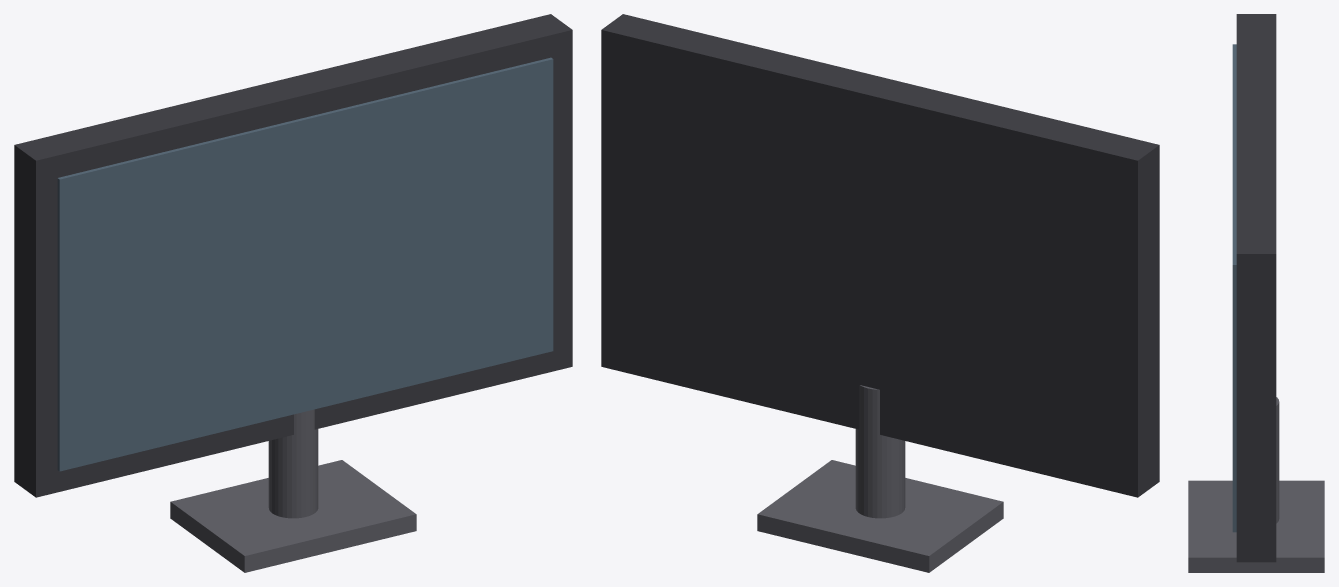
Rendered from monitor.glb.
The picture shows the model from 3 angles, left to right: view 1: azimuth 30°, elevation 25°; view 2: azimuth 150°, elevation 25°; view 3: azimuth 270°, elevation 25°; orthographic projection. The views are drawn at different scales.
Parts seen in each view (by area): view 1: monitor_face, monitor_screen, monitor_foot, monitor_neck; view 2: monitor_screen, monitor_foot, monitor_neck; view 3: monitor_screen, monitor_foot, monitor_face, monitor_neck.
Boxes of the visible parts, box(x1,y1,x2,y2) form: monitor_face: box(57, 57, 553, 471); monitor_screen: box(14, 14, 572, 497); monitor_foot: box(170, 460, 416, 572); monitor_neck: box(268, 409, 318, 518); monitor_screen: box(601, 14, 1159, 497); monitor_foot: box(757, 460, 1003, 572); monitor_neck: box(855, 385, 905, 518); monitor_screen: box(1236, 14, 1276, 562); monitor_foot: box(1188, 480, 1324, 572); monitor_face: box(1232, 44, 1236, 532); monitor_neck: box(1276, 397, 1279, 523).
Bounding box in the file's own units: 0.5 × 0.3895 × 0.12.
